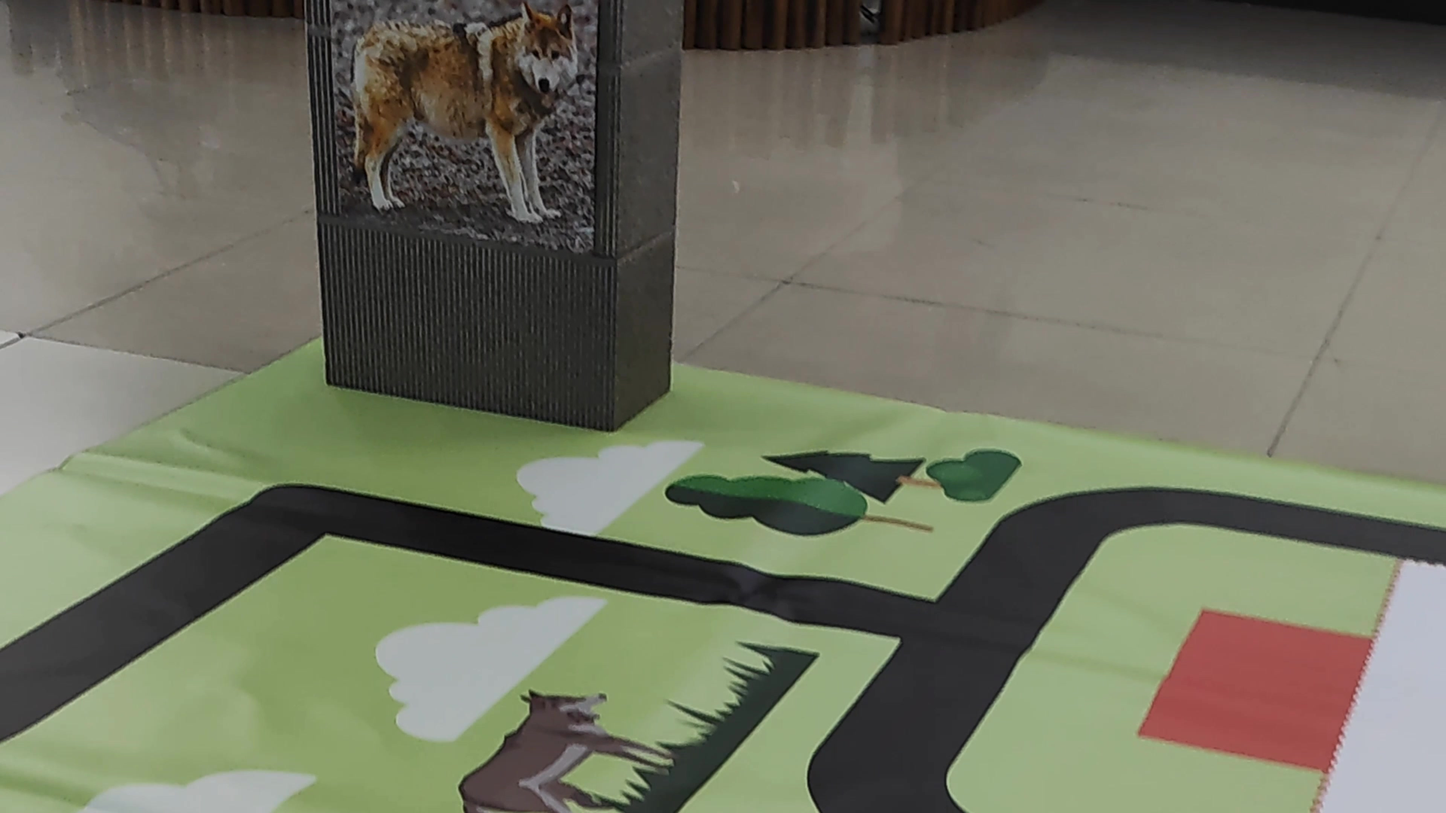wolf: (340, 4, 584, 236)
